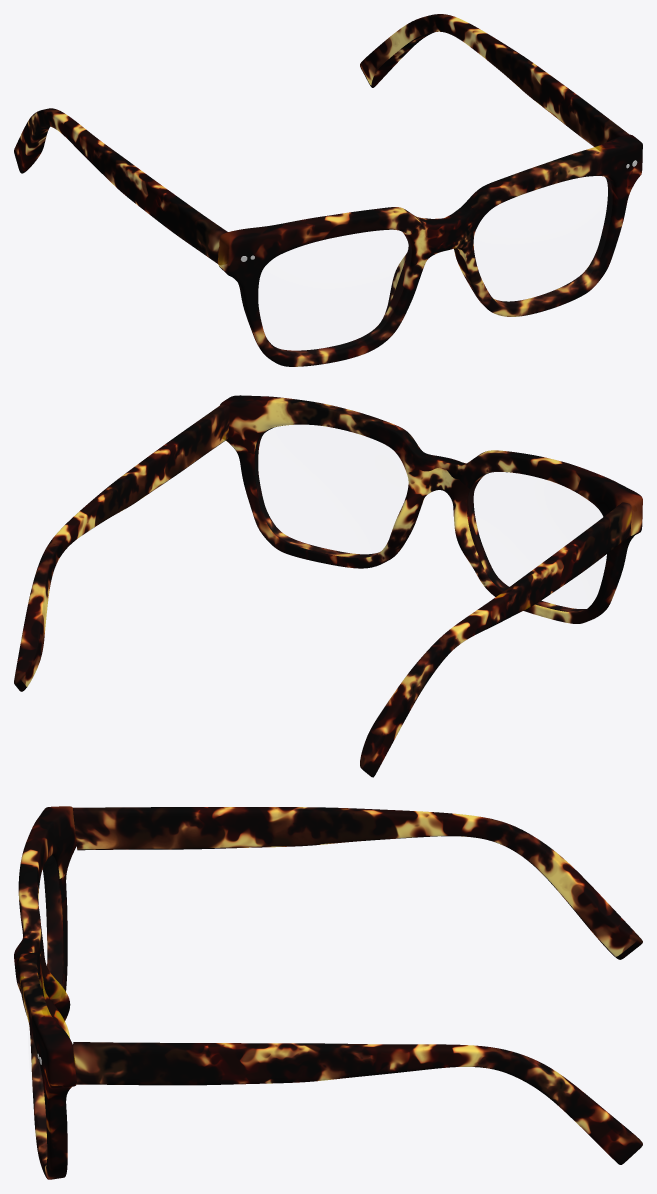
File: winston-opt-sbf-black-oak-tortoise_narrow.glb
3 views of the same model, one above another, from view 1: azimuth 30°, elevation 25°; view 2: azimuth 150°, elevation 25°; view 3: azimuth 270°, elevation 25° (orthographic). The views are drawn at different scales.
Parts seen in each view (by area): view 1: face_front, left_temple, right_temple; view 2: face_front, right_temple, left_temple; view 3: right_temple, left_temple, face_front.
Part boxes in pixels (<box>): face_front: <box>218,134,642,366</box>; left_temple: <box>360,14,629,150</box>; right_temple: <box>14,108,227,264</box>; face_front: <box>220,395,642,623</box>; right_temple: <box>360,502,631,777</box>; left_temple: <box>14,404,229,691</box>; right_temple: <box>73,807,642,959</box>; left_temple: <box>73,1042,642,1164</box>; face_front: <box>14,806,76,1179</box>.
Bounding box in the file's own units: 0.1302 × 0.0447 × 0.1424.
5 materials, 1 textured.
